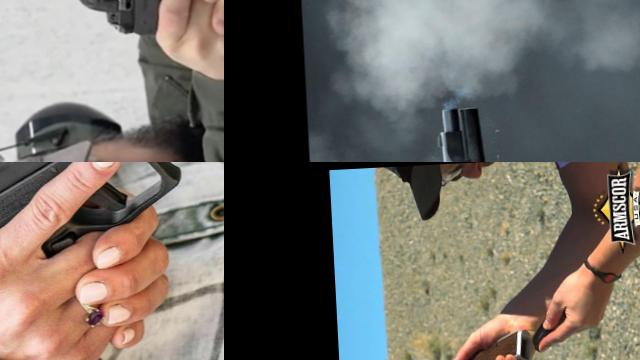handgun: (0, 162, 224, 295), (434, 94, 605, 162), (70, 0, 224, 40), (444, 324, 541, 360)
